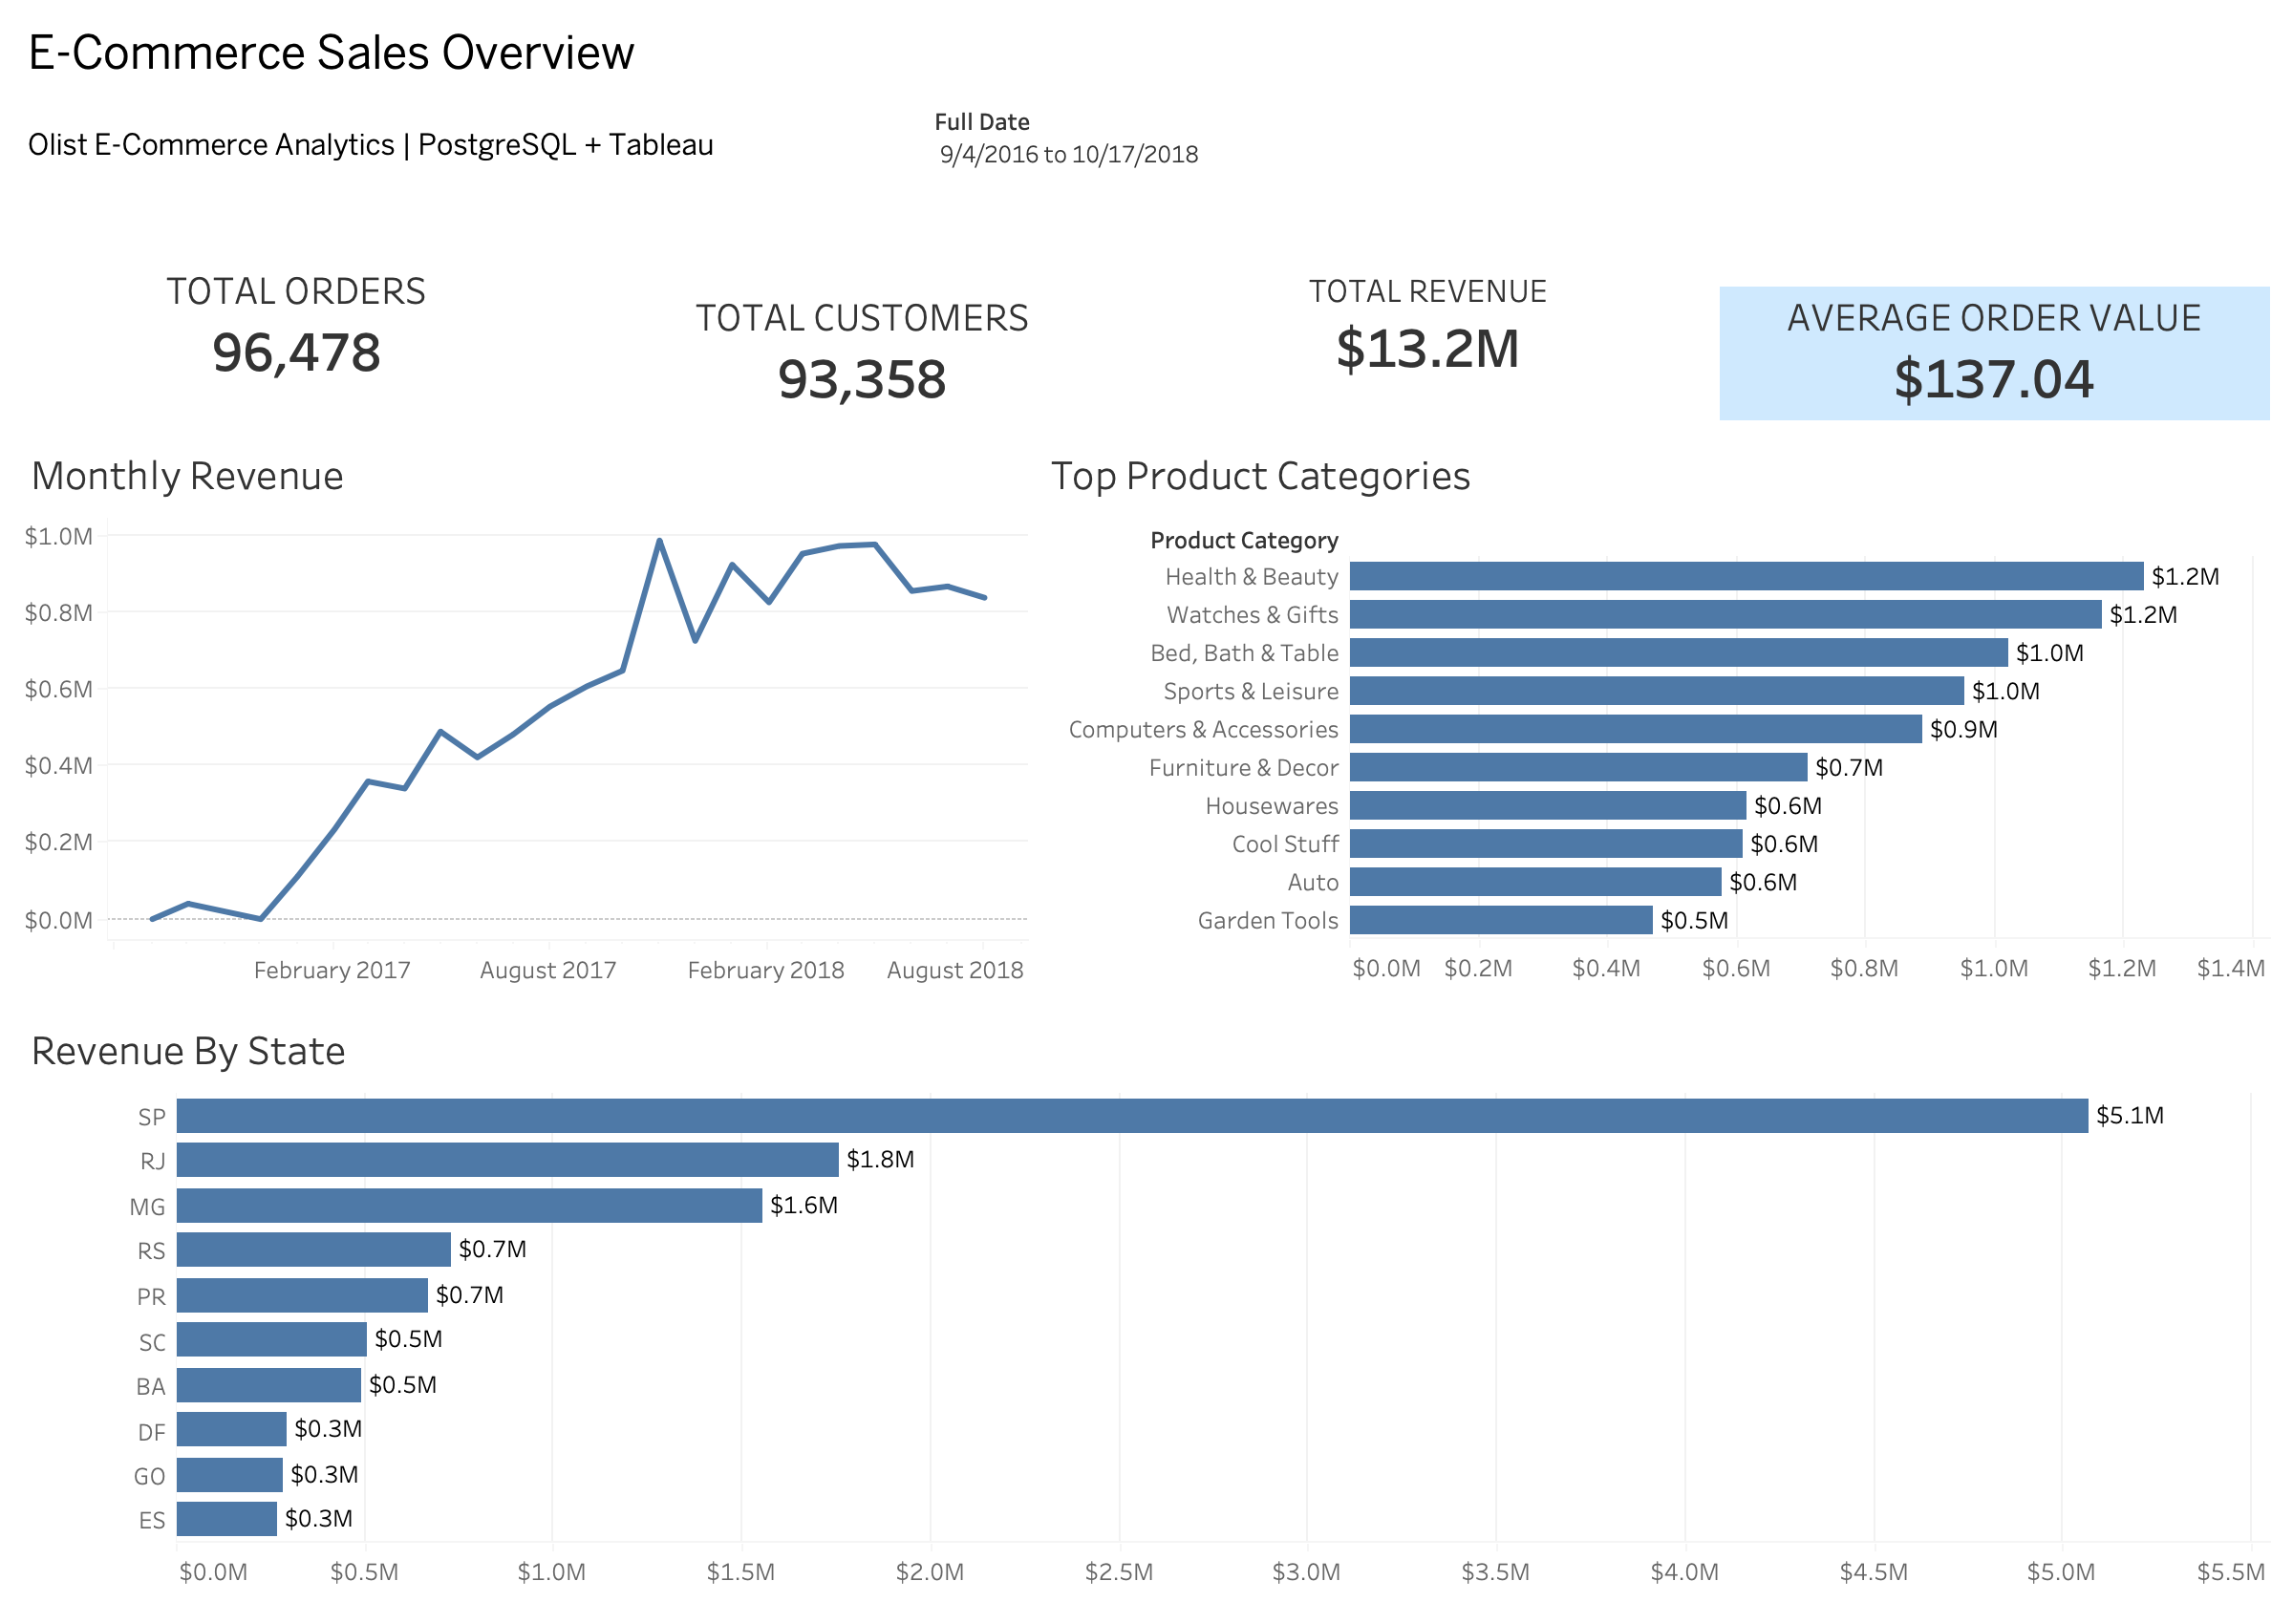

What the dashboard file says about the page in this screenshot:
{"tool":"tableau","page":{"name":"Dashboard 1","canvas":[1200,850],"ordinal":0},"visuals":[{"type":"text","box":[8,8,1184,39]},{"type":"text","box":[8,47,1184,56]},{"type":"filter","title":"Monthly Revenue","param":"[federated.0a1150t00bd49y1foog3i1i4vziz].[none:full_date:qk]","box":[489,54,685,47]},{"type":"worksheet","title":"KPI - Orders","mark":"Automatic","box":[8,103,296,121]},{"type":"worksheet","title":"KPI - Customers","mark":"Automatic","box":[304,103,296,121]},{"type":"worksheet","title":"KPI - Revenue","mark":"Automatic","box":[600,103,296,121]},{"type":"worksheet","title":"KPI - Average Order Value","mark":"Automatic","box":[896,103,296,121]},{"type":"worksheet","title":"Monthly Revenue","mark":"Line","rows":["price"],"cols":["full_date"],"box":[8,224,534,301.1]},{"type":"worksheet","title":"Top Product Categories","mark":"Bar","rows":["product_category"],"cols":["price"],"box":[542,224,650,301.1]},{"type":"worksheet","title":"Revenue By State","mark":"Bar","rows":["customer_state"],"cols":["price"],"box":[8,525.1,1184,316.9]}]}

Visuals, with their boxes in screenshot pixels (x1, y1, x2, y2), scaled from the page's 1200x850 canvas onto the 2293x1624 screenshot:
text: (15, 15, 2278, 90)
text: (15, 90, 2278, 197)
"Monthly Revenue" filter: (934, 103, 2243, 193)
"KPI - Orders" worksheet: (15, 197, 581, 428)
"KPI - Customers" worksheet: (581, 197, 1146, 428)
"KPI - Revenue" worksheet: (1146, 197, 1712, 428)
"KPI - Average Order Value" worksheet: (1712, 197, 2278, 428)
"Monthly Revenue" worksheet (Line marks): (15, 428, 1036, 1003)
"Top Product Categories" worksheet (Bar marks): (1036, 428, 2278, 1003)
"Revenue By State" worksheet (Bar marks): (15, 1003, 2278, 1609)
